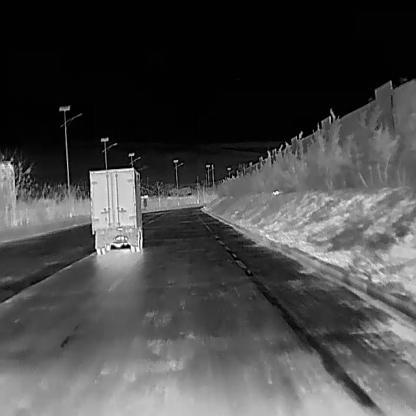car: (89, 166, 147, 253)
